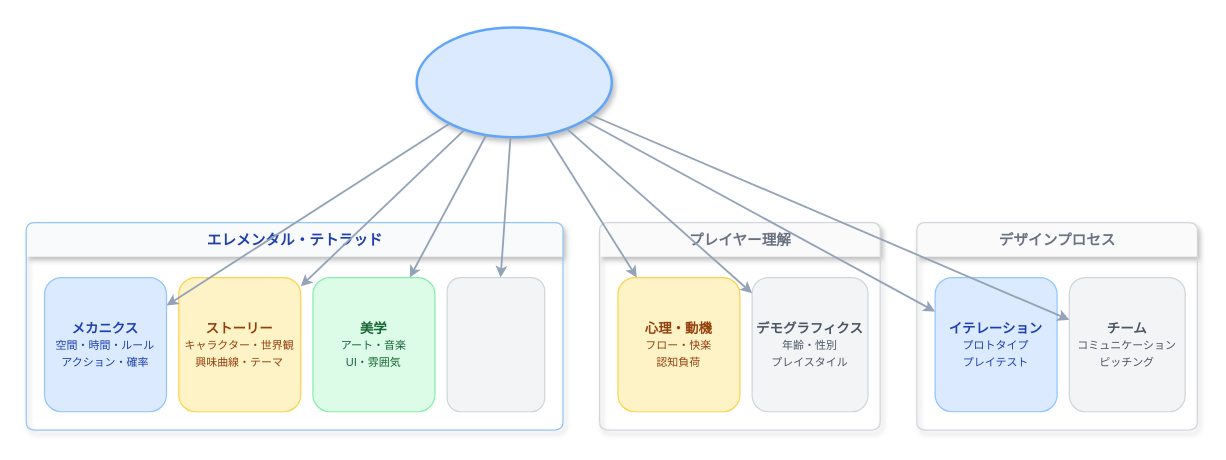
Image size: 1226x460. Some labels were removed from this diagram. Each missing label, with the centre of its shape:
"112のレンズ (Lenses)" goes at [515,83].
"テクノロジー プラットフォーム 技術的制約" goes at [495,344].
